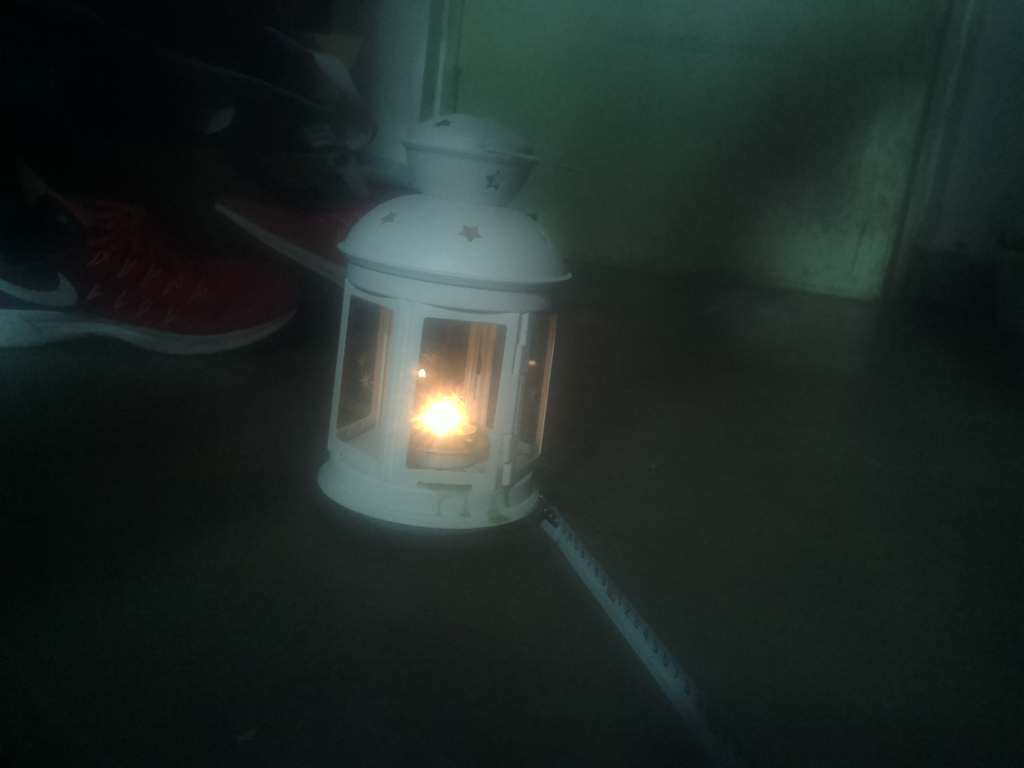fire: (391, 359, 502, 462)
